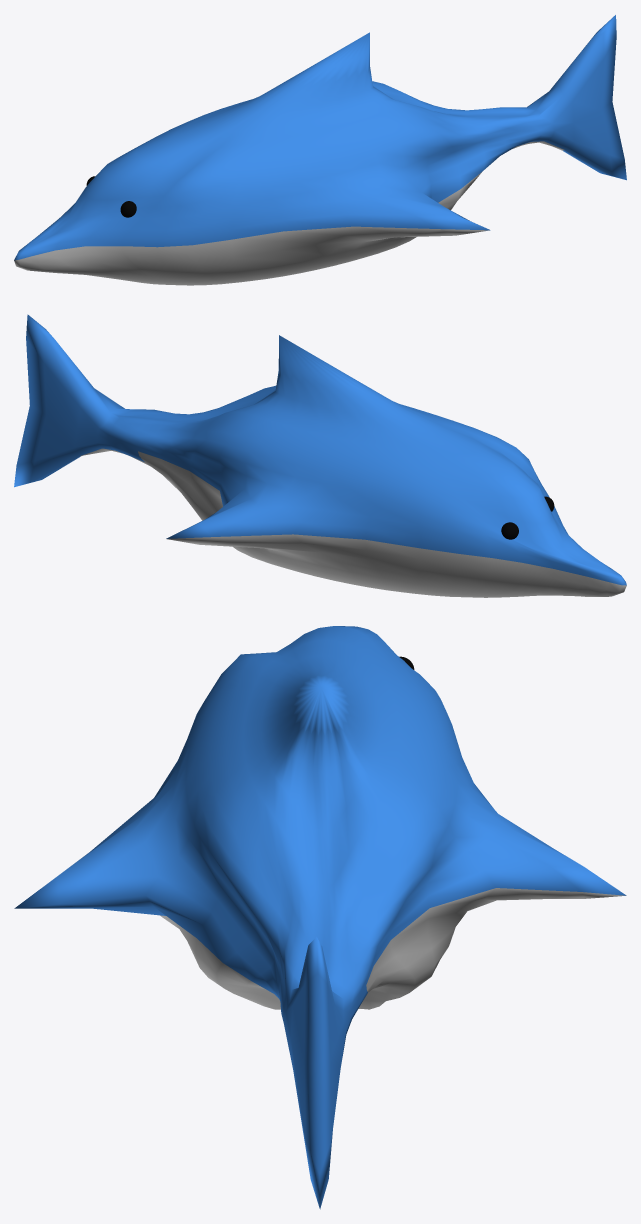
Rendered from dolphin.fbx.
The picture shows the model from 3 angles, top to bottom: view 1: azimuth 30°, elevation 25°; view 2: azimuth 150°, elevation 25°; view 3: azimuth 270°, elevation 25°; orthographic projection. The views are drawn at different scales.
Parts seen in each view (by area): view 1: Sphere; view 2: Sphere; view 3: Sphere.
Boxes of the visible parts, left/top/right/bottom form: Sphere: left=14, top=15, right=626, bottom=285; Sphere: left=14, top=314, right=626, bottom=597; Sphere: left=14, top=626, right=626, bottom=1209.
Bounding box in the file's own units: 244 × 81.85 × 138.
